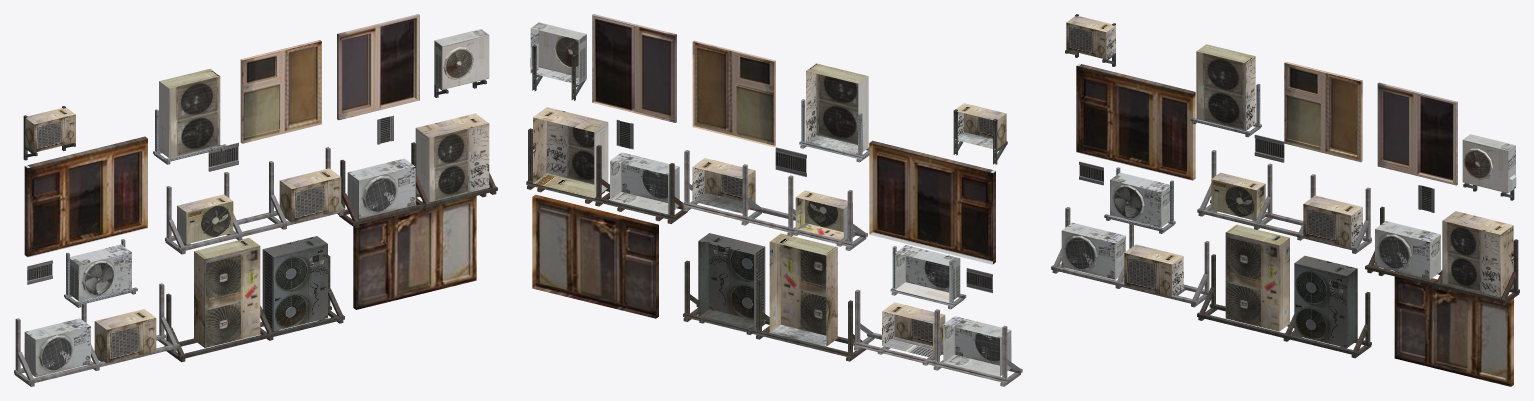
Rendered from air_conditioner_pack.glb.
The picture shows the model from 3 angles, left to right: view 1: azimuth 30°, elevation 25°; view 2: azimuth 150°, elevation 25°; view 3: azimuth 330°, elevation 25°; orthographic projection. The views are drawn at different scales.
Visible parts, largest first — view 1: Plane.006; view 2: Plane.006; view 3: Plane.006.
Boxes of the visible parts, bbox=[...] form: Plane.006: bbox=[14, 14, 497, 386]; Plane.006: bbox=[526, 14, 1022, 386]; Plane.006: bbox=[1051, 14, 1519, 386].
Bounding box in the file's own units: 11.5 × 6.55 × 0.7685.
Materials: 1 (1 with a texture image).
